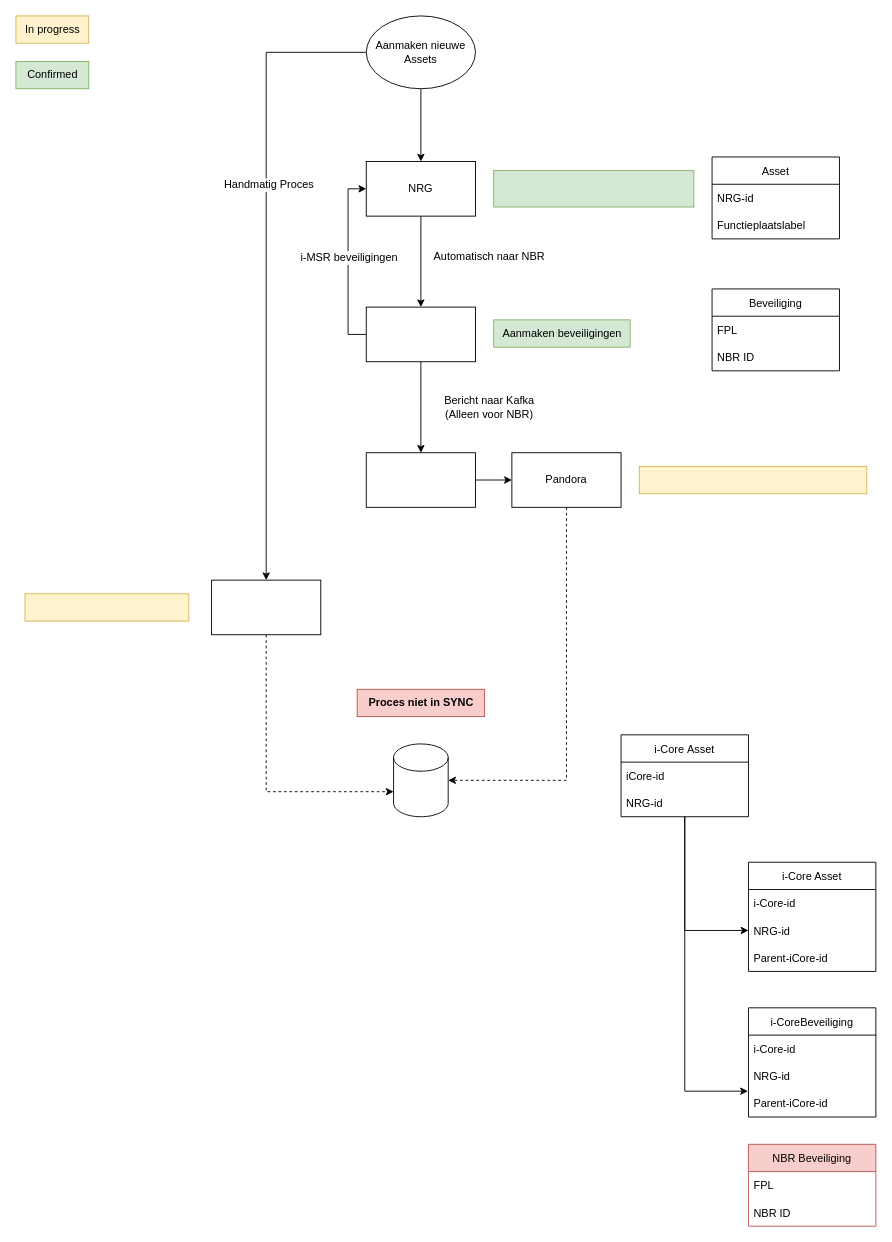
This 892x1242 diagram has some shape labels left out. The centre of each missing label's shape, as x and y in pixels:
"Aanmaken in i-Core" belongs at [266,607].
"Aanmaken van Asset. (t/m Veld/transformator/installatie/rail)" belongs at [593,188].
"Automatisch verwerken van berichten NBR" belongs at [752,479].
"i-Core" belongs at [420,780].
"Kafka" belongs at [420,479].
"NBR" belongs at [420,334].
"Nogmaals Assets aanmaken" belongs at [106,607].
